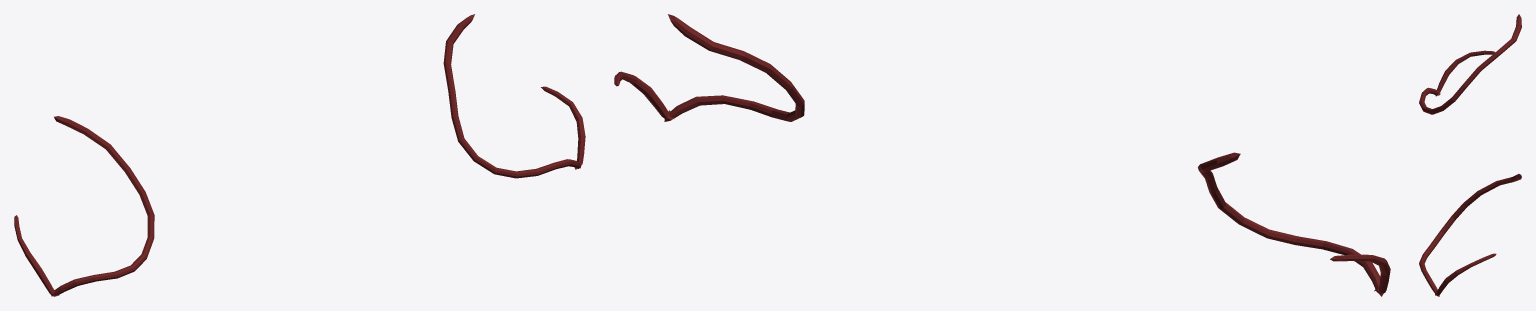
File: Artéria Genicular.FBX
The picture shows the model from 3 angles, left to right: view 1: azimuth 30°, elevation 25°; view 2: azimuth 150°, elevation 25°; view 3: azimuth 270°, elevation 25°; orthographic projection. The views are drawn at different scales.
Parts seen in each view (by area): view 1: CS_Arterie; view 2: CS_Arterie; view 3: CS_Arterie.
Part boxes in pixels (bbox=[...]): CS_Arterie: bbox=[14, 14, 585, 296]; CS_Arterie: bbox=[614, 14, 1390, 296]; CS_Arterie: bbox=[1419, 14, 1521, 296].
Bounding box in the file's own units: 1140 × 253 × 233.
